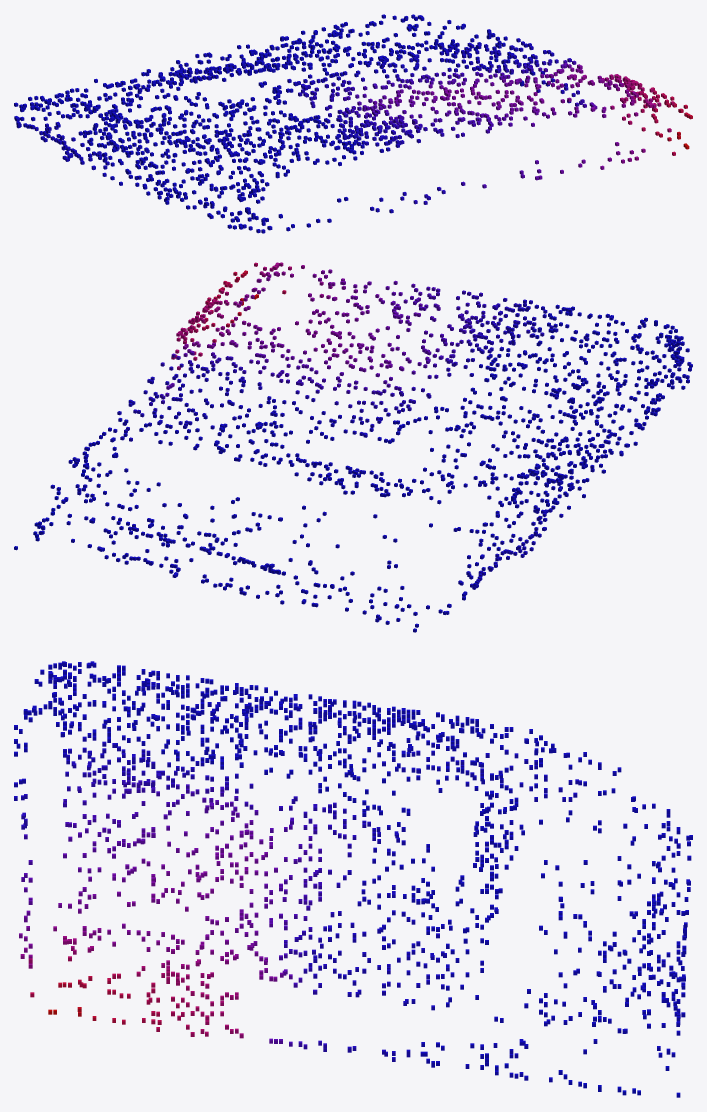
The model's file is heatmap.glb.
The picture shows the model from 3 angles, top to bottom: view 1: azimuth 30°, elevation 25°; view 2: azimuth 150°, elevation 25°; view 3: azimuth 270°, elevation 25°; orthographic projection. The views are drawn at different scales.
Visible parts, largest first — view 1: world; view 2: world; view 3: world.
Boxes of the visible parts, left/top/right/bottom form: world: left=14, top=14, right=692, bottom=233; world: left=14, top=262, right=692, bottom=632; world: left=14, top=661, right=692, bottom=1097.
Bounding box in the file's own units: 0.5319 × 0.1619 × 0.5405.
